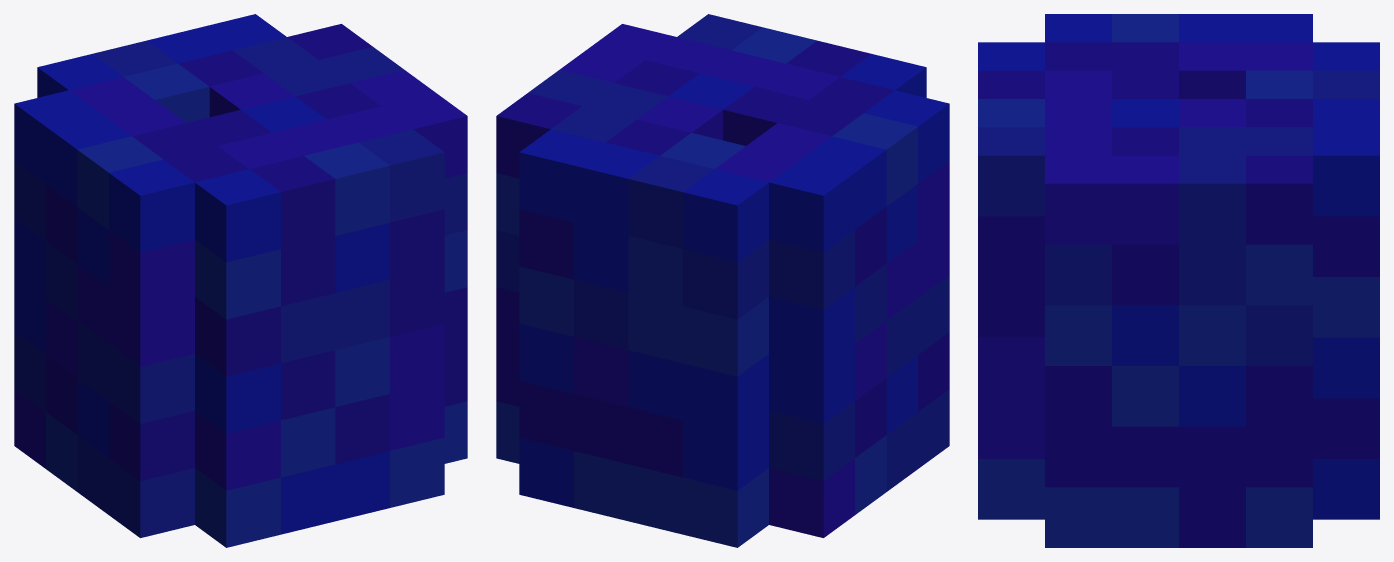
Rendered from FurroThighL.fbx.
The picture shows the model from 3 angles, left to right: view 1: azimuth 30°, elevation 25°; view 2: azimuth 150°, elevation 25°; view 3: azimuth 270°, elevation 25°; orthographic projection. The views are drawn at different scales.
Visible parts, largest first — view 1: FurroThighL; view 2: FurroThighL; view 3: FurroThighL.
Part boxes in pixels (x1,y1,x2,y2): FurroThighL: [14, 14, 467, 547]; FurroThighL: [496, 14, 949, 547]; FurroThighL: [978, 14, 1379, 547].
Bounding box in the file's own units: 60 × 60 × 60.
